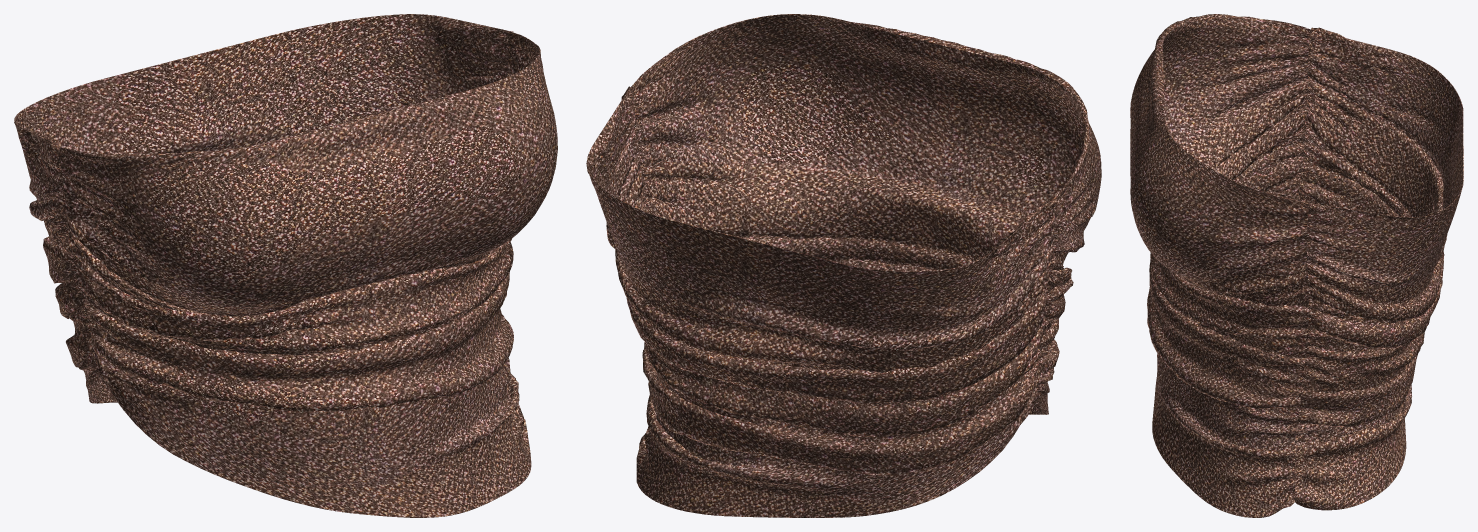
Rendered from asimetrico_fruncido_crop.glb.
The picture shows the model from 3 angles, left to right: view 1: azimuth 30°, elevation 25°; view 2: azimuth 150°, elevation 25°; view 3: azimuth 270°, elevation 25°; orthographic projection. The views are drawn at different scales.
Parts seen in each view (by area): view 1: Cloth; view 2: Cloth; view 3: Cloth.
Part boxes in pixels (box(x1,y1,x2,y2)): Cloth: box(14, 14, 557, 517); Cloth: box(586, 14, 1101, 517); Cloth: box(1130, 14, 1463, 517).
Bounding box in the file's own units: 0.2973 × 0.2692 × 0.2297.
1 material, 1 textured.
